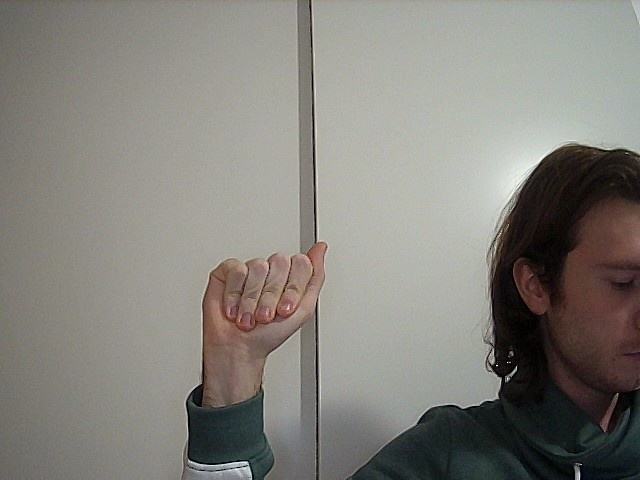a: (183, 234, 343, 354)
